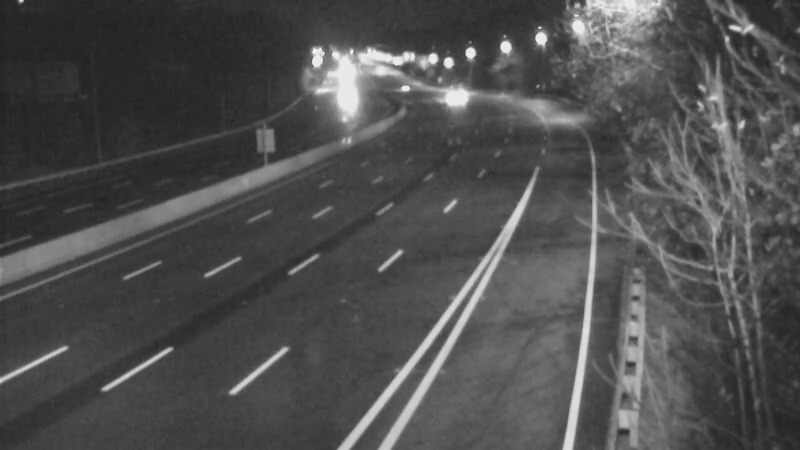vehicle: (379, 60, 429, 110), (420, 67, 470, 117), (320, 73, 370, 123)
